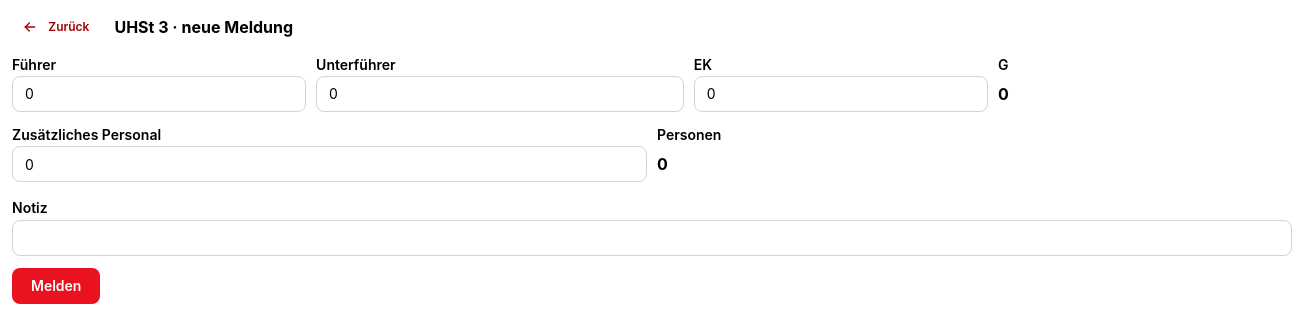
Test: ReportForm › takes at most four digits
Replace the text in the field labelled "EK" with "123456" at [841, 94], box left=694, top=76, right=988, bottom=112
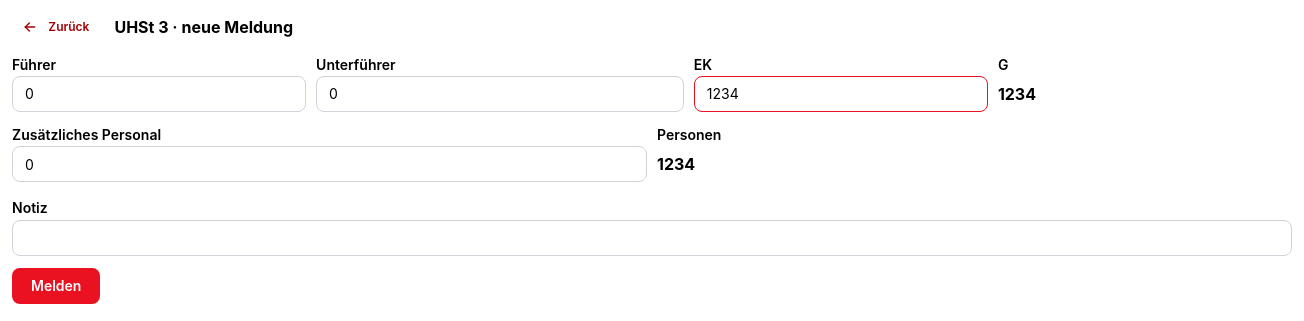
Expected: the field labelled "EK" holds "1234", left=694, top=76, right=988, bottom=112
